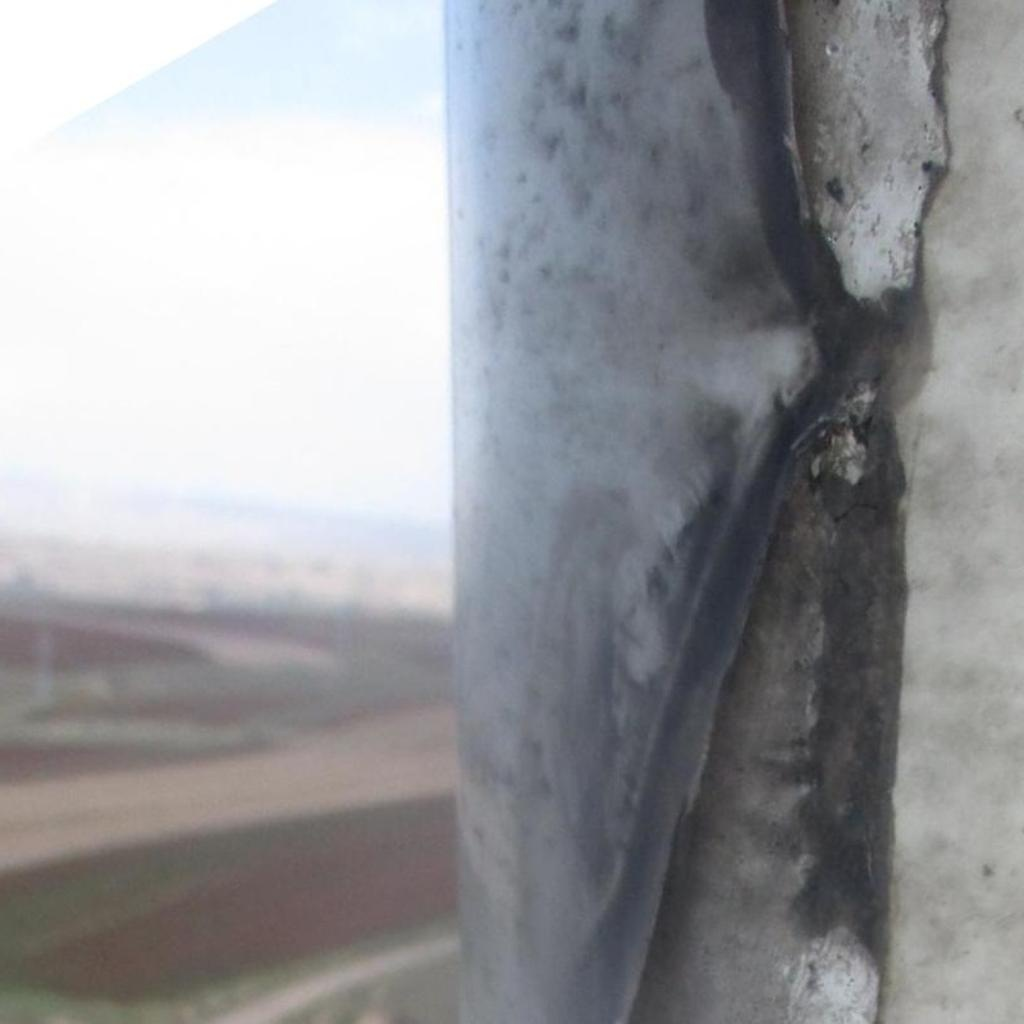craze: (604, 385, 913, 1022), (727, 3, 948, 360)
